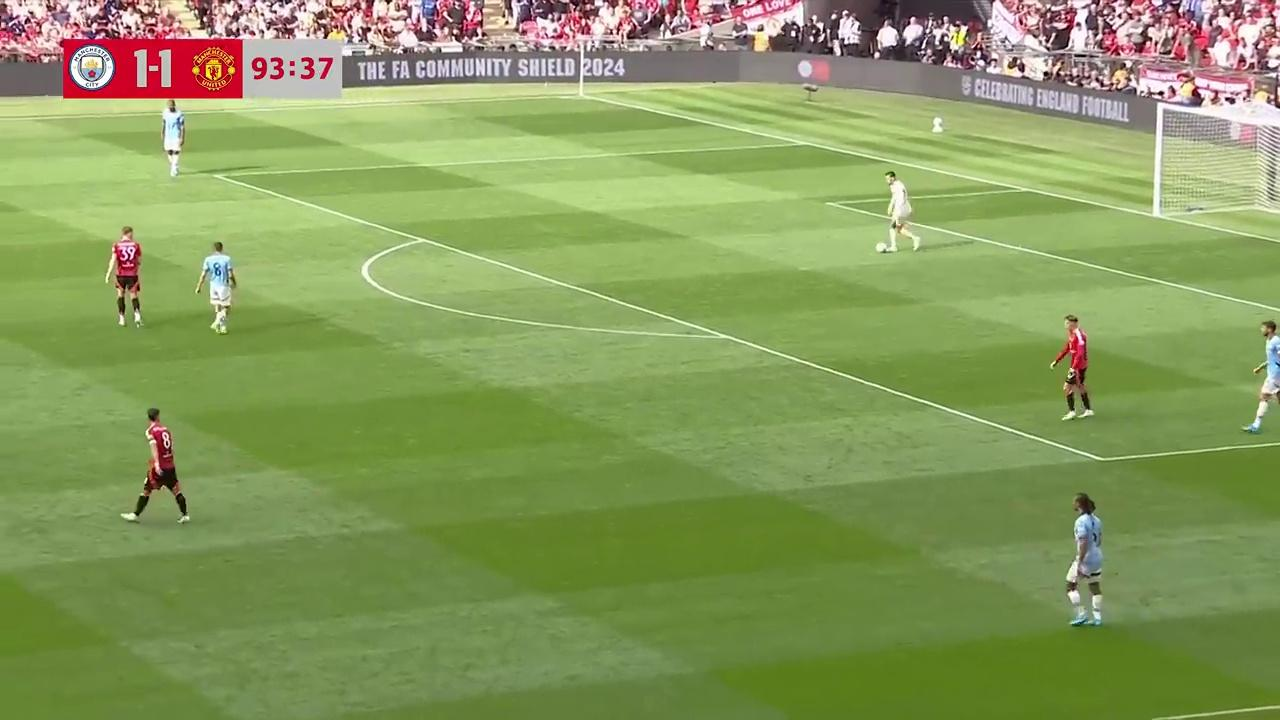ball: (874, 238, 888, 254)
player: (124, 408, 191, 525), (1065, 493, 1105, 627), (1049, 314, 1093, 420), (1242, 326, 1280, 434), (106, 225, 143, 328), (195, 241, 236, 333), (880, 168, 920, 253), (161, 104, 186, 178)
